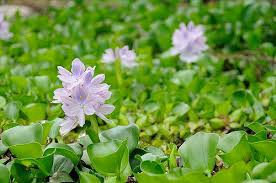water_hyacinth: (0, 59, 148, 183)
